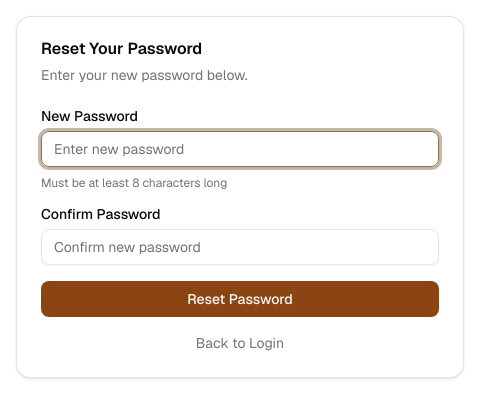
Scenario: ResetPasswordPage › should handle successful password reset
Check: the text "Reset Your Password" is shown, box [41,38,202,59]
In the password field labelled "New Password": {"x": 240, "y": 149} [41,131,439,167], type "NewSecurePass123!"
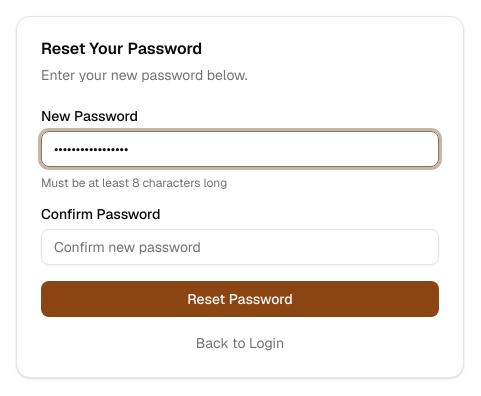
In the password field labelled "Confirm Password": {"x": 240, "y": 247} [41,229,439,265], type "NewSecurePass123!"
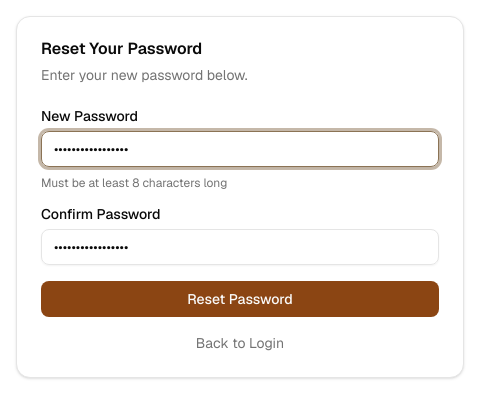
Click the button "Reset Password": {"x": 240, "y": 299} [41,281,439,317]
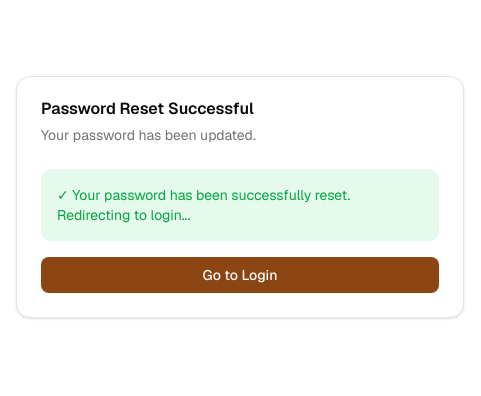
Check: the text "password has been successfully reset" is shown, box [57,186,350,224]
